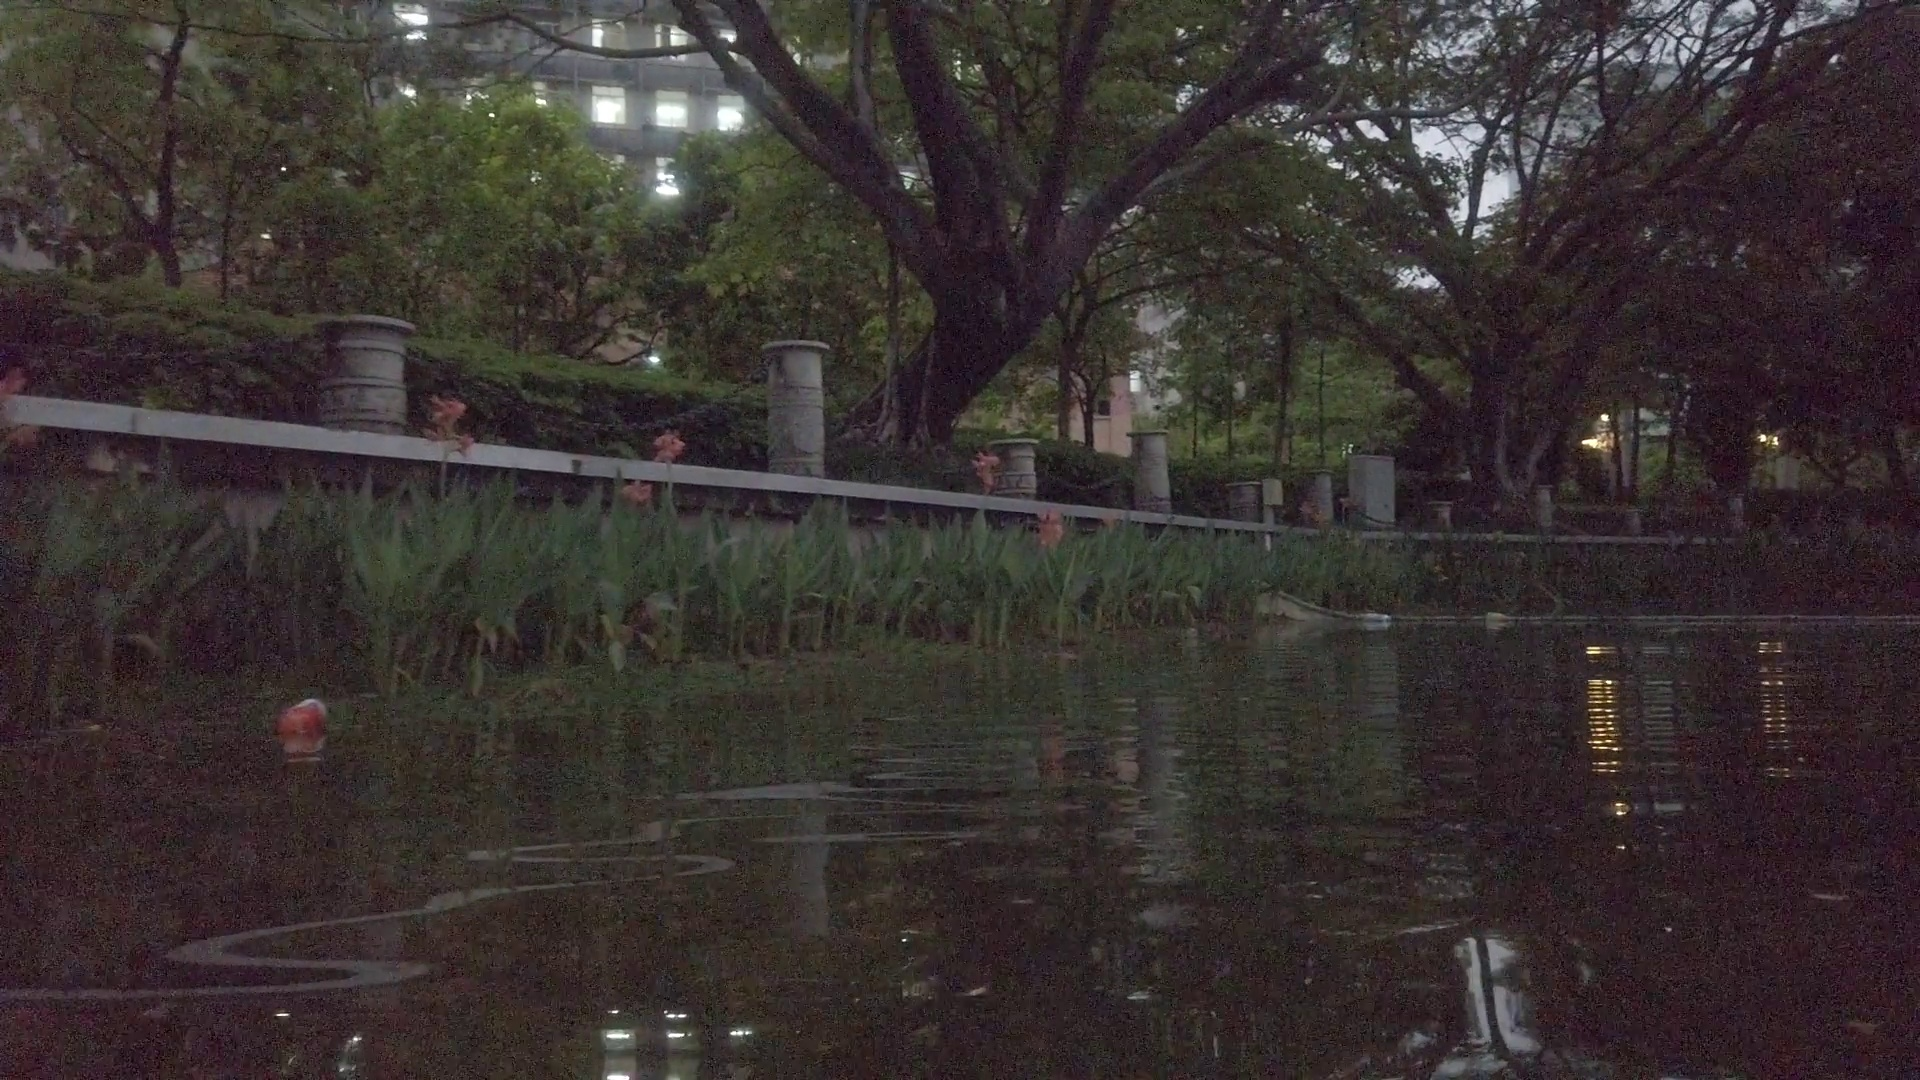bottle: (280, 699, 332, 745), (1482, 611, 1520, 630), (1360, 611, 1395, 629)
